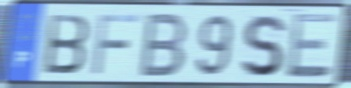9: (193, 12, 236, 78)
B: (136, 11, 190, 79), (42, 12, 92, 76)
E: (285, 11, 339, 81)
F: (90, 12, 142, 77)
S: (239, 13, 287, 79)
